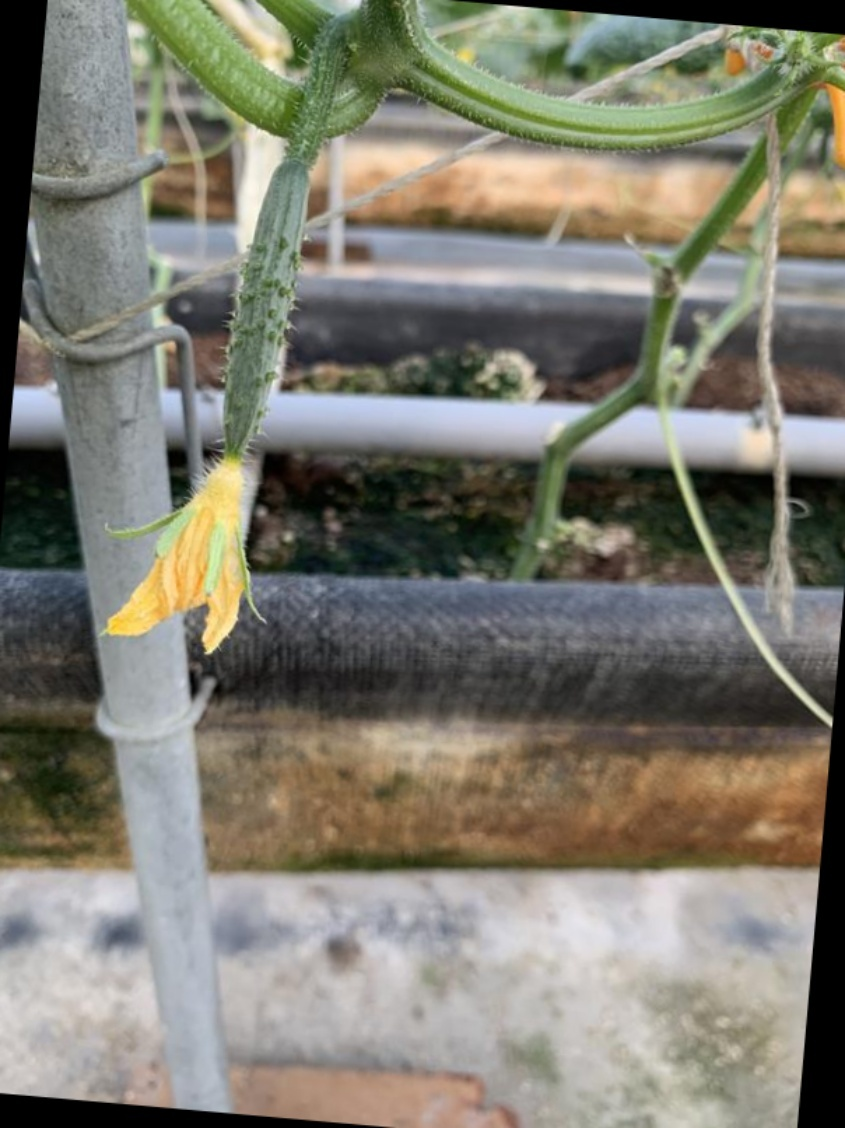bear: (104, 147, 337, 659)
